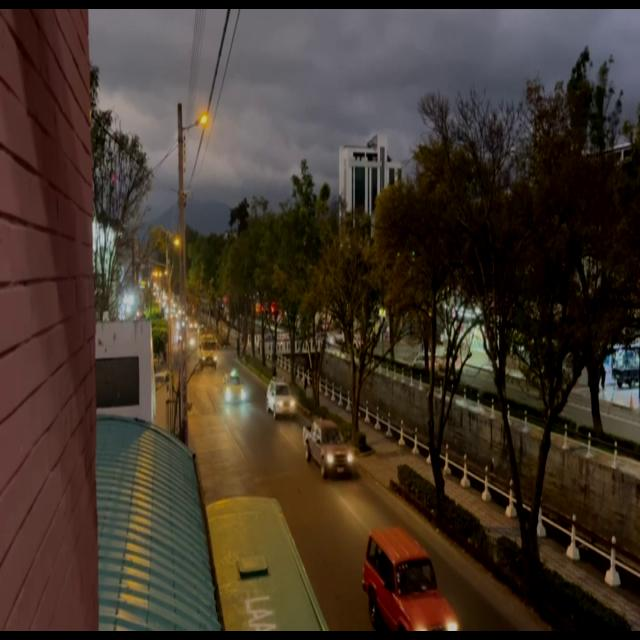CMT: (308, 421, 355, 474)
SED: (224, 375, 247, 402)
SUV: (370, 532, 459, 637), (269, 382, 295, 419)
TRUCK: (199, 334, 218, 370)
